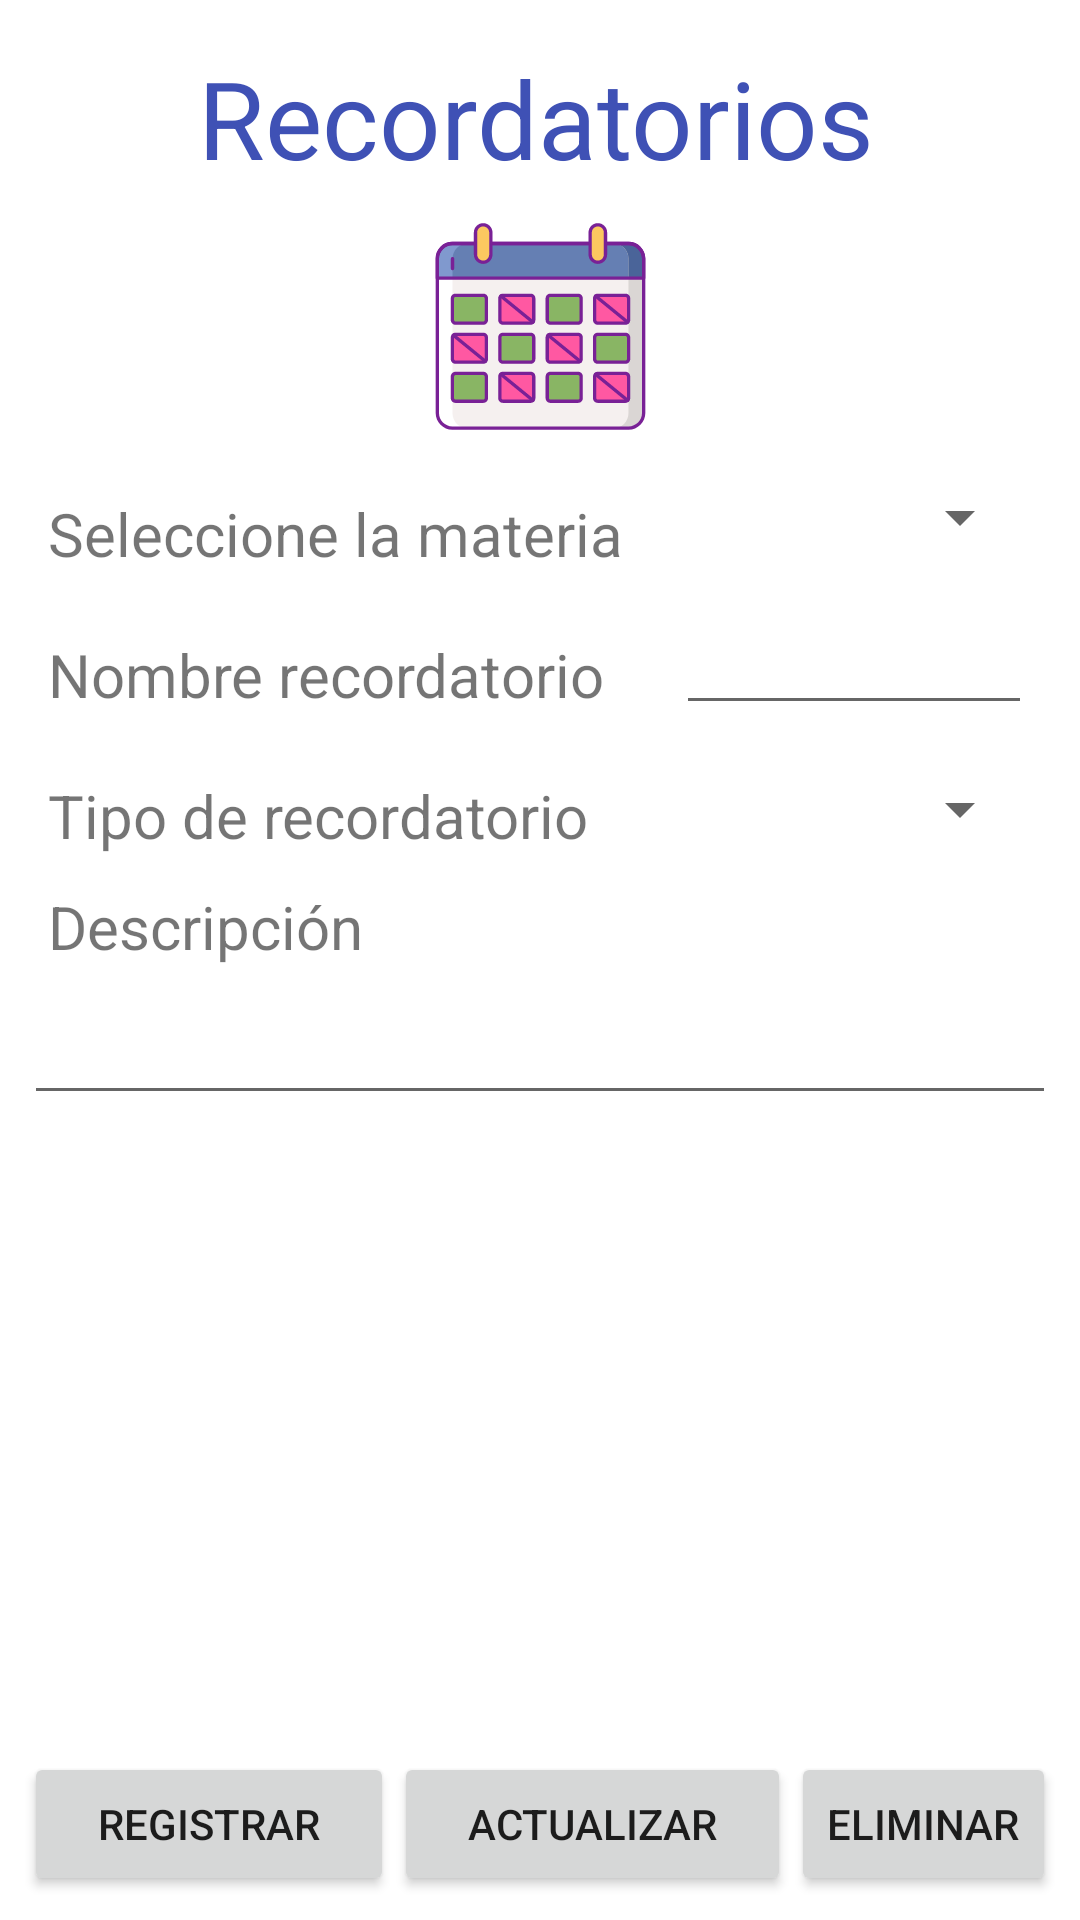

Named icons in this screenshot (1080x1920) and their centers, (x=x, y=y):
horario: (x=540, y=326)
